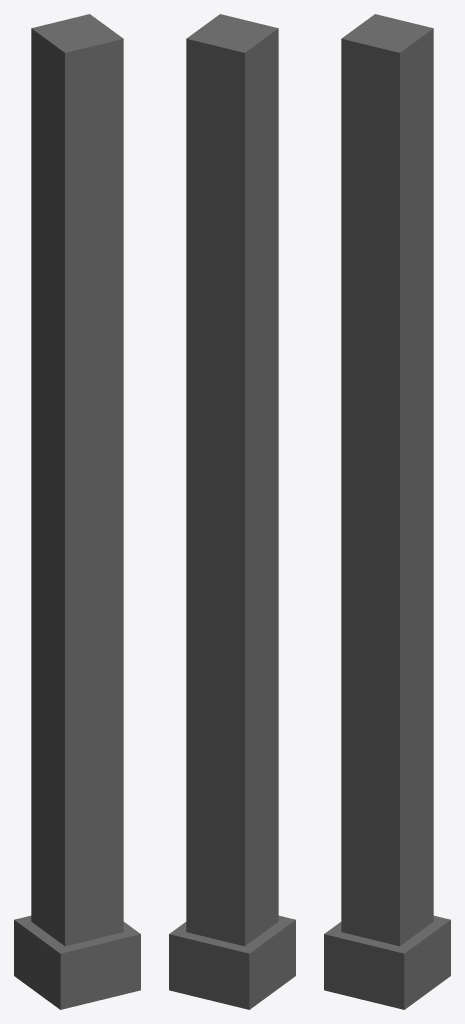
File: Bars Pillar 01.FBX
The picture shows the model from 3 angles, left to right: view 1: azimuth 30°, elevation 25°; view 2: azimuth 150°, elevation 25°; view 3: azimuth 330°, elevation 25°; orthographic projection.
Parts seen in each view (by area): view 1: Bars Pillar 01; view 2: Bars Pillar 01; view 3: Bars Pillar 01.
Boxes of the visible parts, <box> form: Bars Pillar 01: <box>14,14,140,1009</box>; Bars Pillar 01: <box>169,14,295,1009</box>; Bars Pillar 01: <box>324,14,450,1009</box>.
Bounding box in the file's own units: 22.15 × 250 × 22.15.
